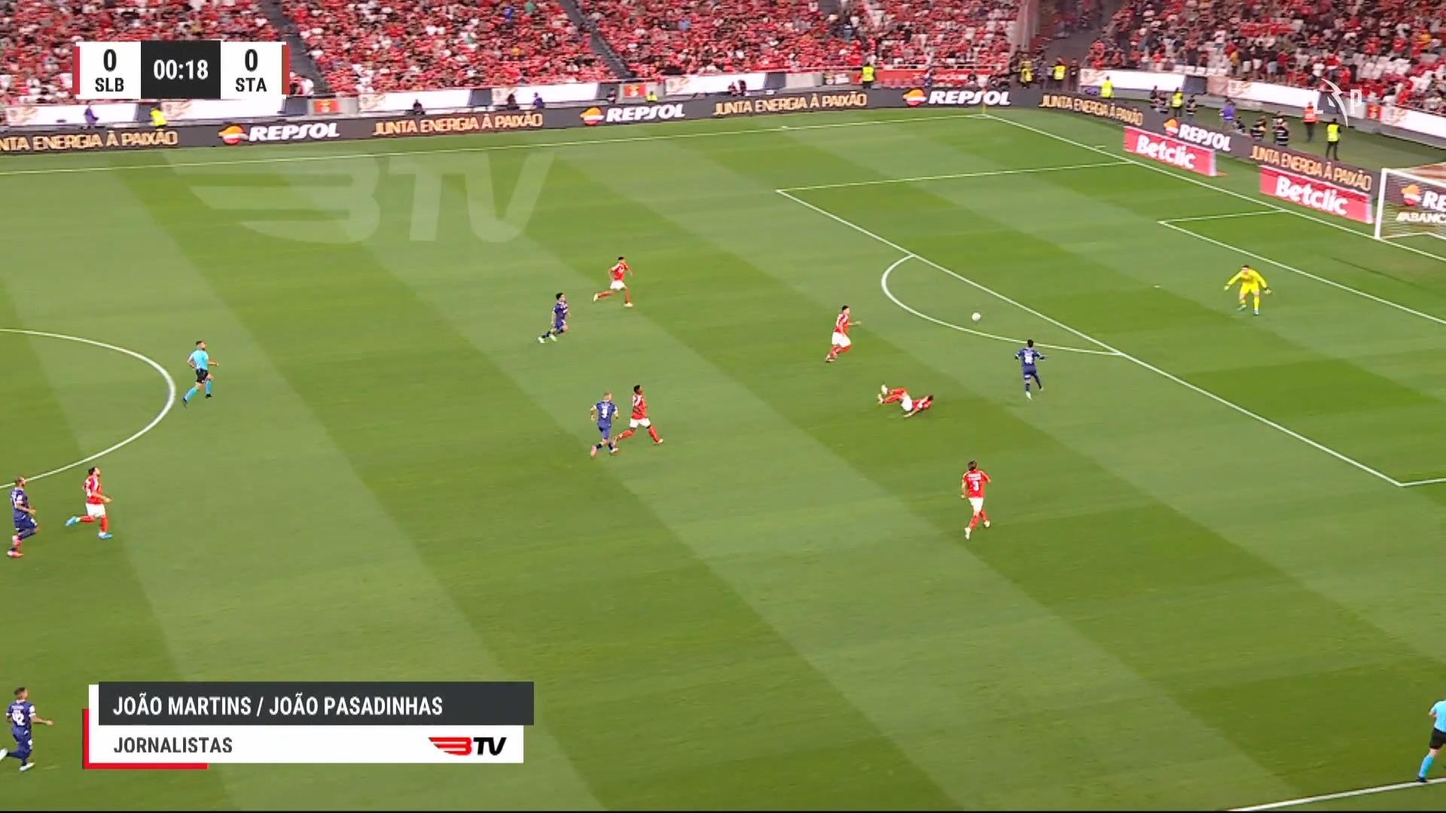ball: (972, 312, 981, 321)
goalkeeper: (1223, 263, 1271, 315)
player: (1, 685, 53, 772), (64, 465, 114, 539), (612, 384, 664, 446), (5, 475, 39, 557), (959, 459, 992, 540), (1415, 698, 1445, 783), (823, 303, 862, 363), (592, 255, 633, 308), (588, 391, 620, 458), (876, 383, 934, 419), (1014, 337, 1047, 399), (537, 291, 569, 343)
referee: (180, 340, 219, 407)
